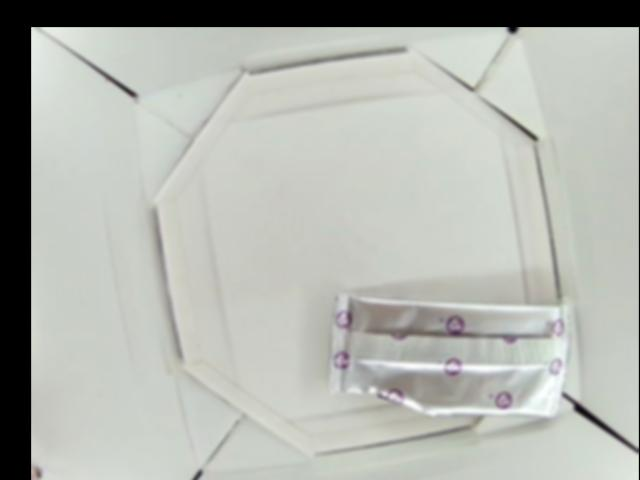Medicine: (325, 292, 570, 419)
